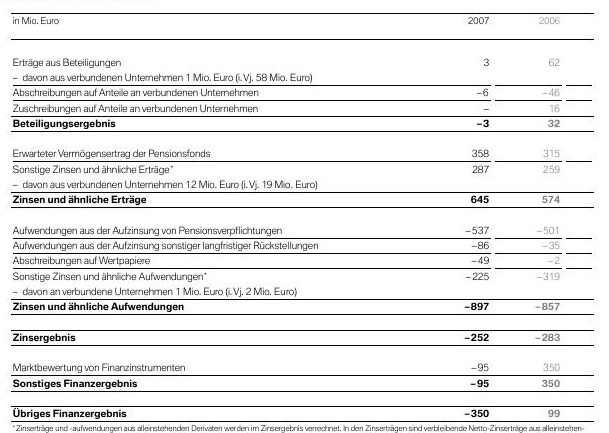table: (0, 0, 609, 433)
